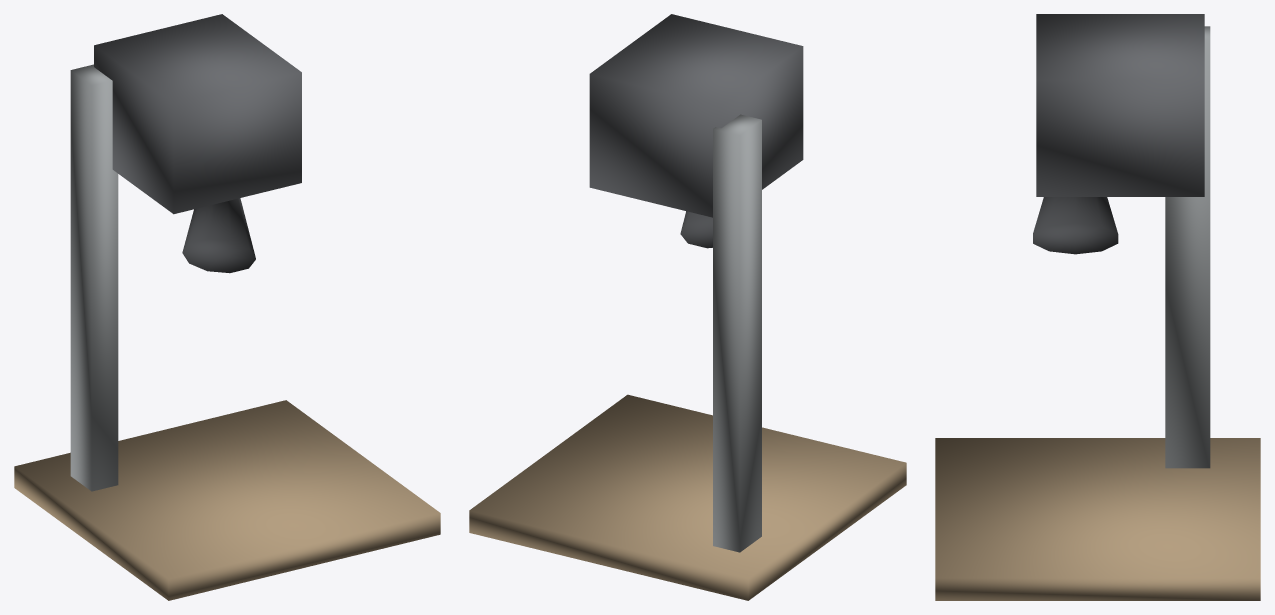
Rendered from photo_enlarger__deep.glb.
The picture shows the model from 3 angles, left to right: view 1: azimuth 30°, elevation 25°; view 2: azimuth 150°, elevation 25°; view 3: azimuth 270°, elevation 25°; orthographic projection. The views are drawn at different scales.
Visible parts, largest first — view 1: world; view 2: world; view 3: world.
Part boxes in pixels (x1,y1,x2,y2): world: [14, 14, 440, 600]; world: [469, 14, 906, 600]; world: [935, 14, 1260, 600].
Size of the model in its own units: 0.72 by 1.14 by 0.7076.
